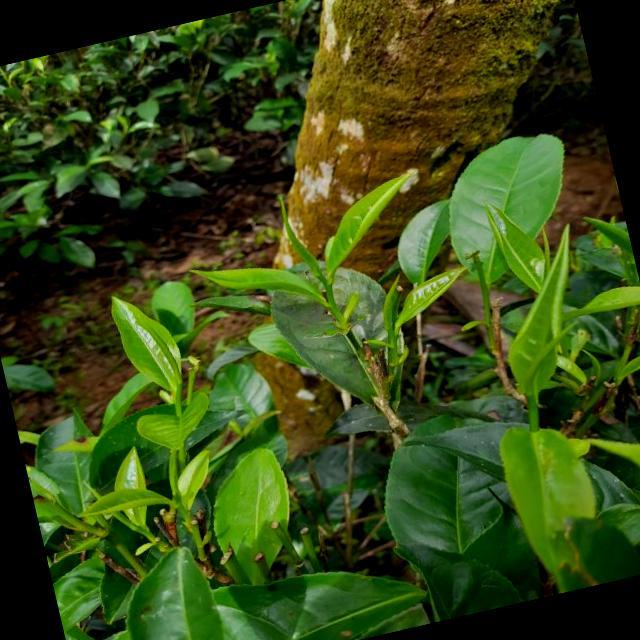Stem: (529, 395, 539, 431), (177, 504, 189, 521), (327, 283, 335, 306), (175, 399, 182, 415)
